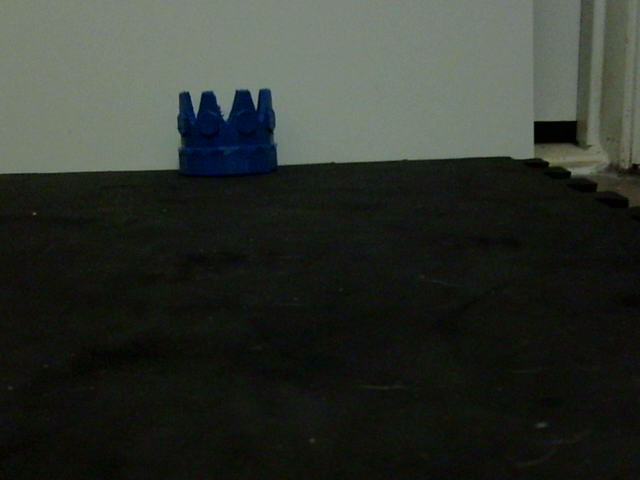crown: (177, 88, 279, 177)
